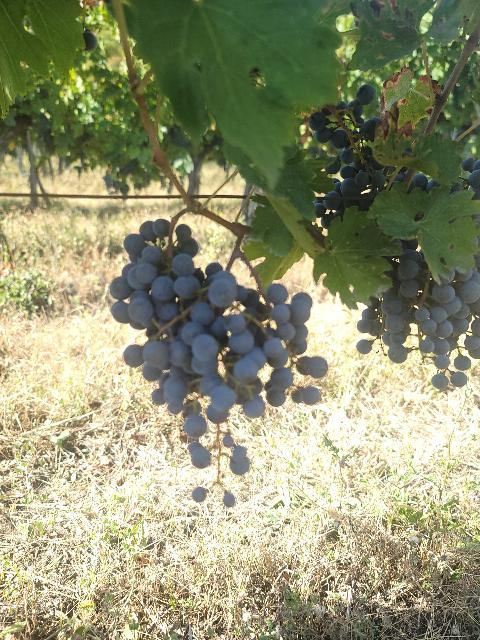grapes: (164, 270, 311, 424), (110, 219, 201, 329), (309, 84, 386, 199), (415, 269, 480, 390), (358, 249, 420, 362)
